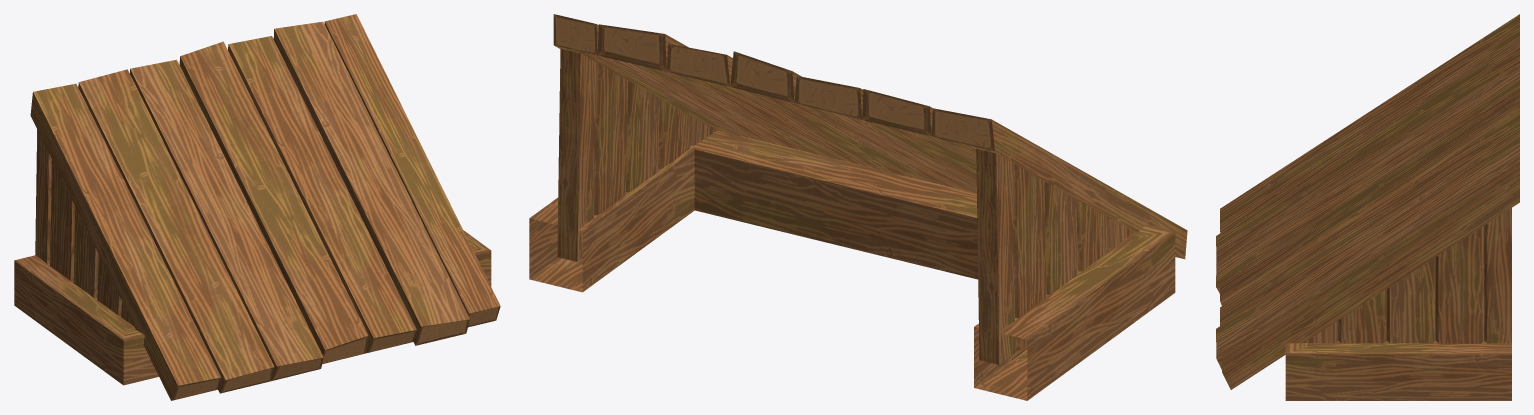
The model's file is Roof_Wooden_2x1.gltf.
3 views of the same model, side by side, from view 1: azimuth 30°, elevation 25°; view 2: azimuth 150°, elevation 25°; view 3: azimuth 270°, elevation 25° (orthographic). The views are drawn at different scales.
Visible parts, largest first — view 1: Roof_Wooden_2x1; view 2: Roof_Wooden_2x1; view 3: Roof_Wooden_2x1.
Part boxes in pixels (left/top/right/bottom): Roof_Wooden_2x1: left=14, top=14, right=500, bottom=400; Roof_Wooden_2x1: left=529, top=14, right=1187, bottom=400; Roof_Wooden_2x1: left=1216, top=14, right=1519, bottom=400.
Size of the model in its own units: 2.26 by 1.25 by 1.56.
2 materials, 2 textured.
